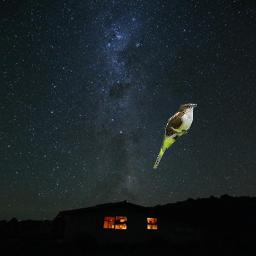Cuckoo: (153, 103, 197, 169)
